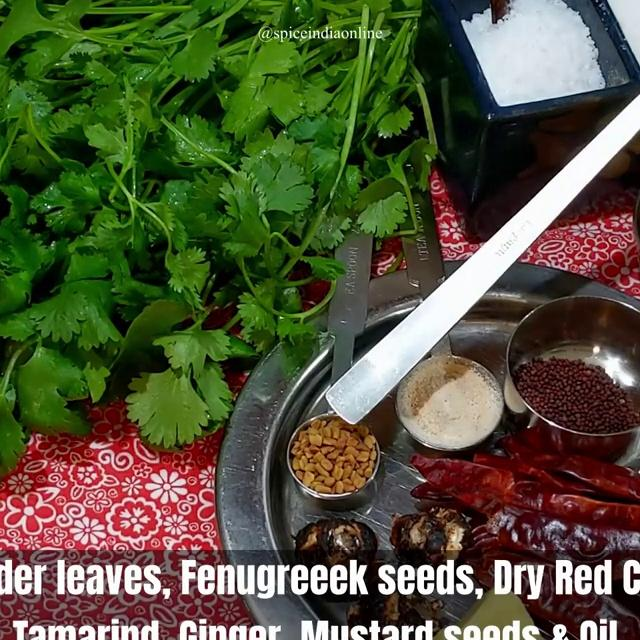cilantro: (0, 0, 305, 415)
